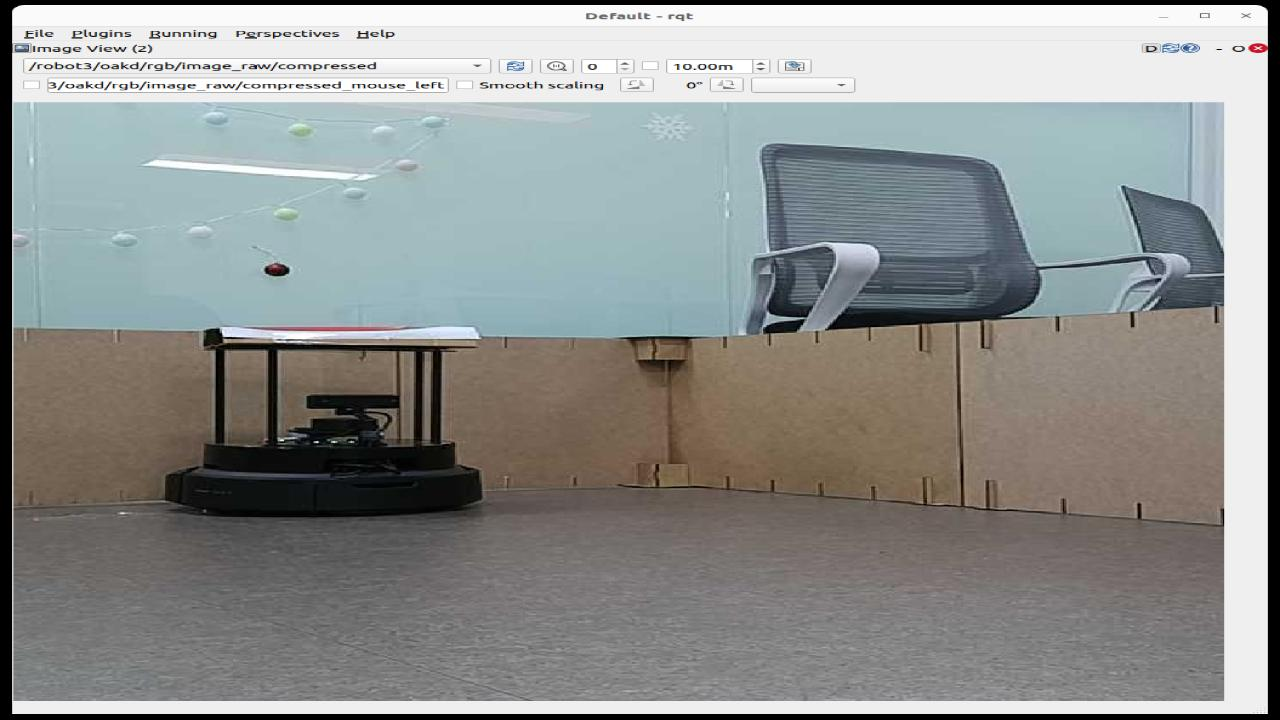AED: (204, 326, 479, 348)
Robot: (166, 349, 482, 514)
